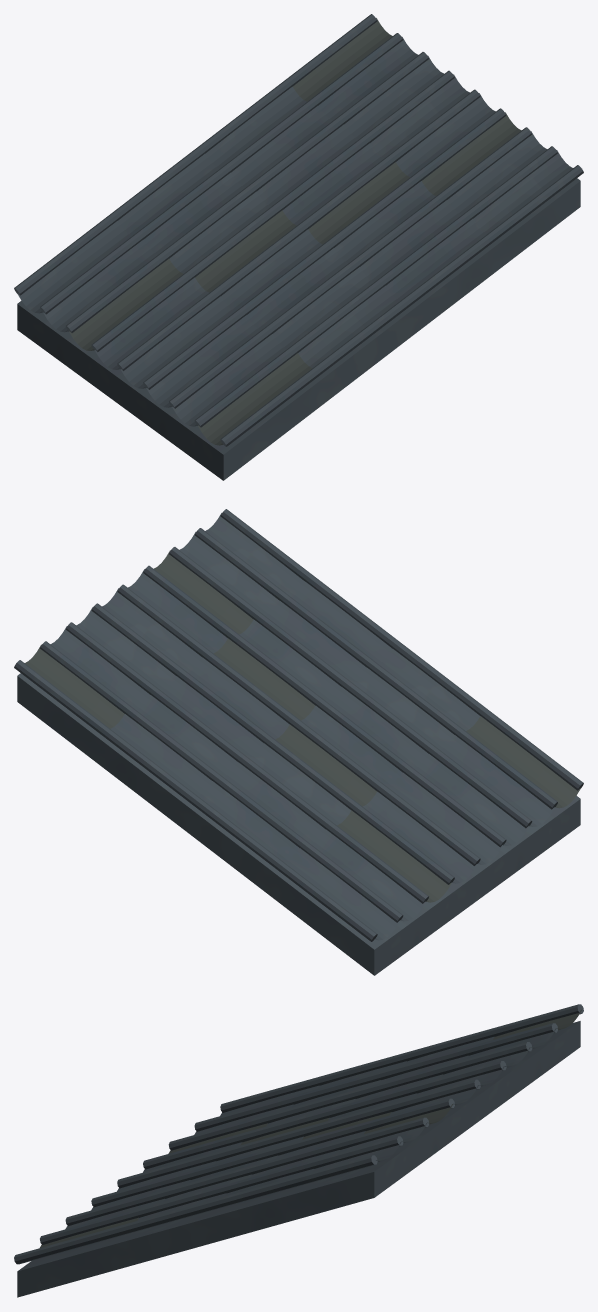
The model's file is AR_Roof_Tile_2m.glb.
The picture shows the model from 3 angles, top to bottom: view 1: azimuth 30°, elevation 25°; view 2: azimuth 150°, elevation 25°; view 3: azimuth 330°, elevation 25°; orthographic projection.
Visible parts, largest first — view 1: AR_Roof_Tile_2m; view 2: AR_Roof_Tile_2m; view 3: AR_Roof_Tile_2m.
Part boxes in pixels (x1,y1,x2,y2): AR_Roof_Tile_2m: [14, 14, 583, 480]; AR_Roof_Tile_2m: [14, 509, 583, 975]; AR_Roof_Tile_2m: [14, 1004, 583, 1297].
Size of the model in its own units: 2.02 by 1.23 by 2.05.
Materials: 2 (1 with a texture image).
